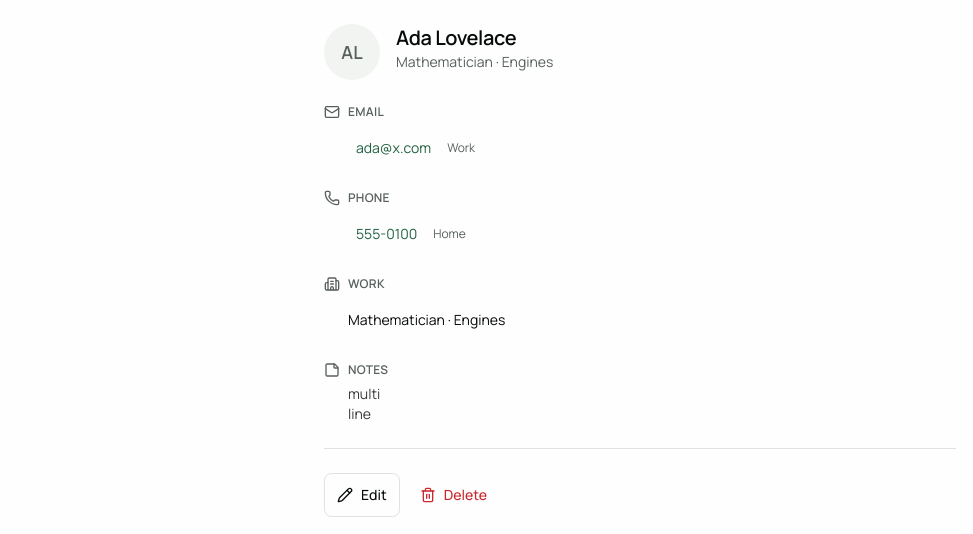
Scenario: ContactDetailRoute wrapper › header context menu › copies the address, and stays quiet when the browser refuses or has no clipboard
The width and height of the screenshot is (973, 534).
Right-click the element showing "AL Ada Lovelace Mathematician · Engines" at (439, 52), box [324,24,553,80]
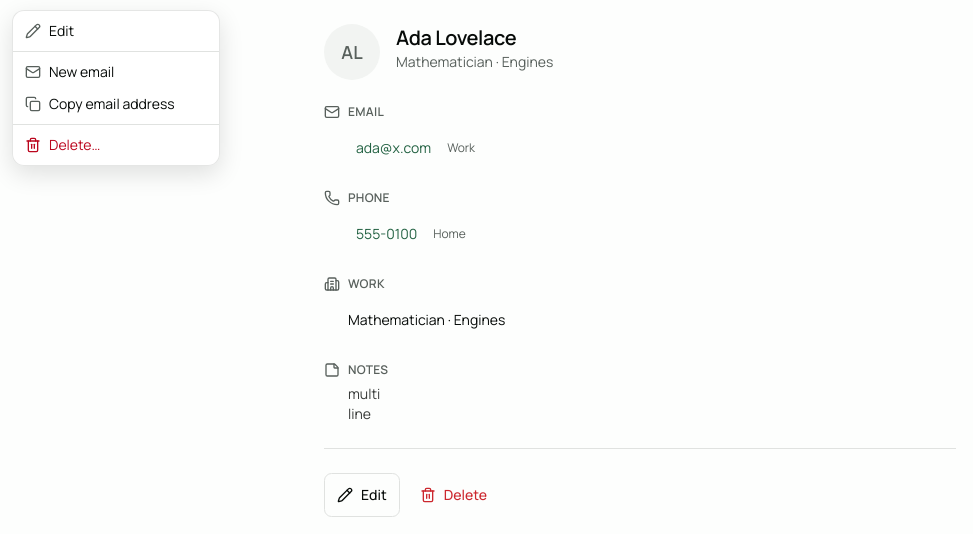
Click the menu item "Copy email address" at (100, 104), box [25,94,175,113]
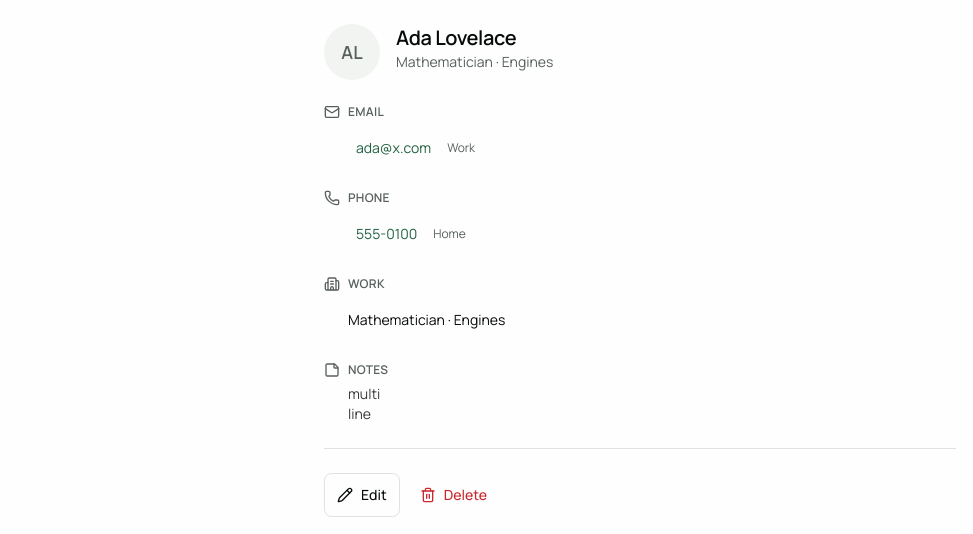
Expected: the menu is gone
Right-click the element showing "AL Ada Lovelace Mathematician · Engines" at (439, 52), box [324,24,553,80]
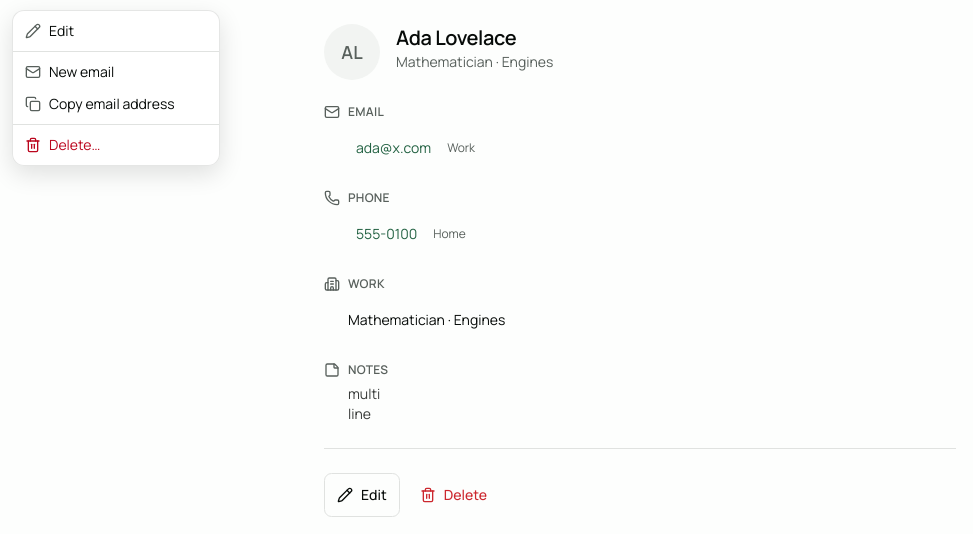
Click the menu item "Copy email address" at (100, 104), box [25,94,175,113]
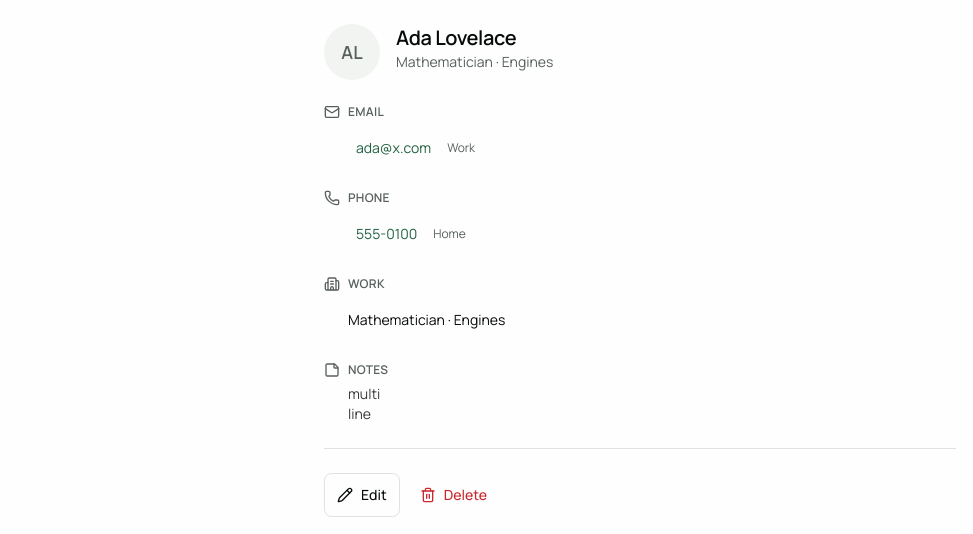
Expected: the menu is gone
Right-click the element showing "AL Ada Lovelace Mathematician · Engines" at (439, 52), box [324,24,553,80]
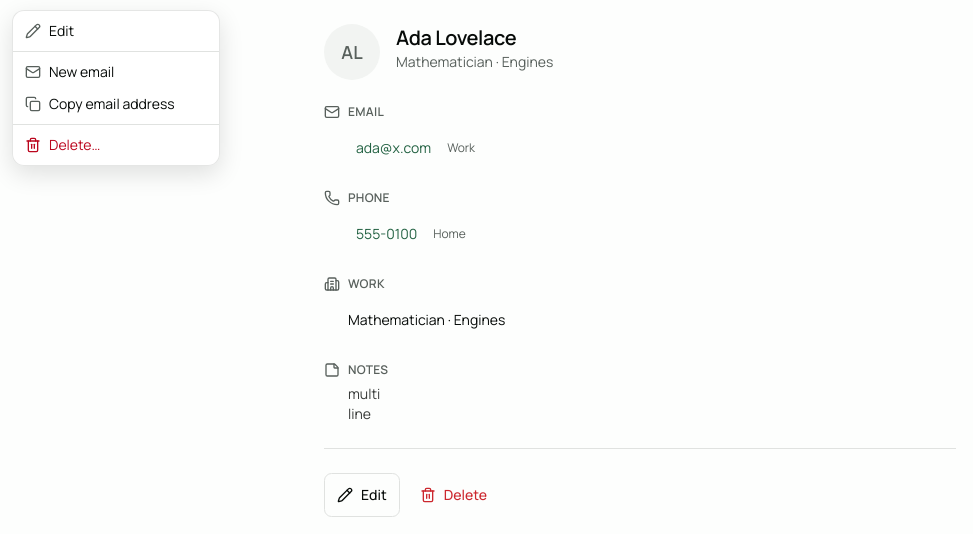
Click the menu item "Copy email address" at (100, 104), box [25,94,175,113]
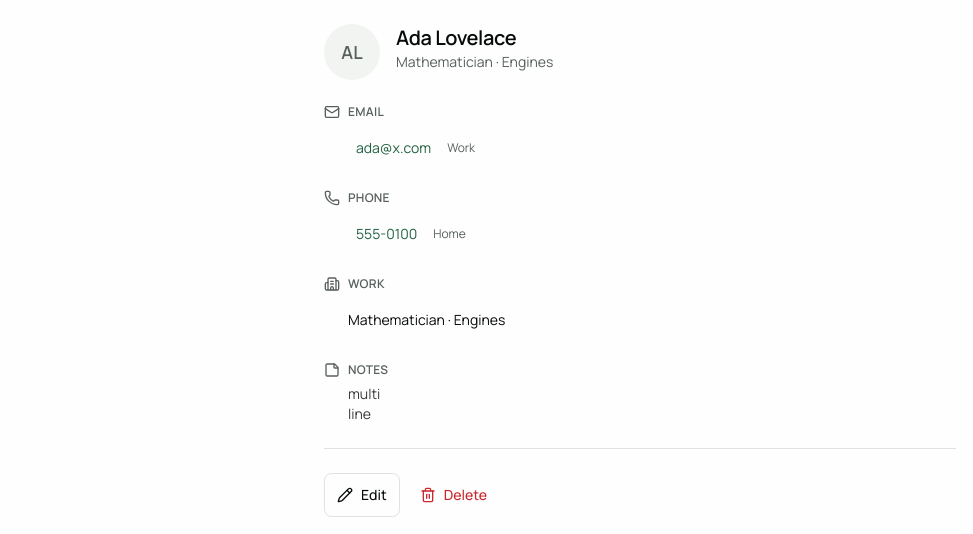
Expected: the menu is gone
